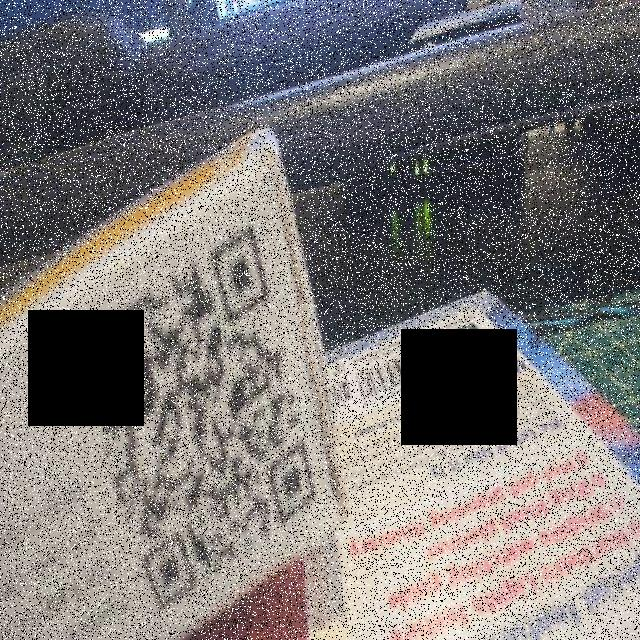QR_CODE: (61, 162, 336, 620)
